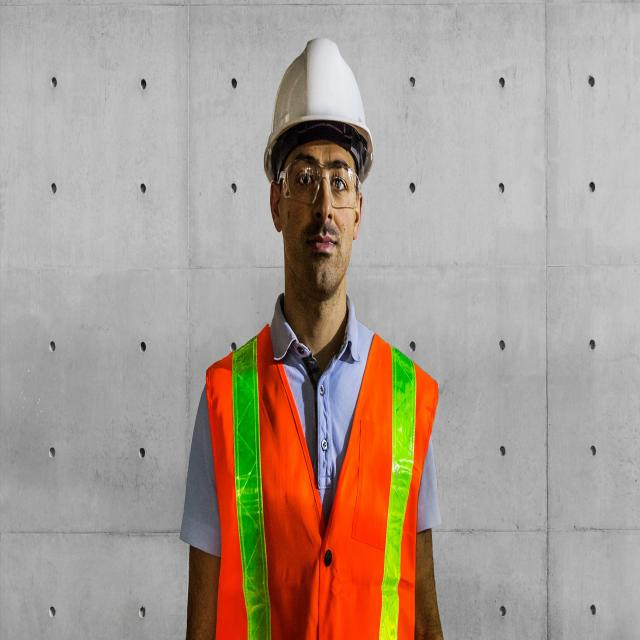Reflective-Jacket: (201, 320, 441, 639)
Safety-Helmet: (262, 32, 376, 166)
